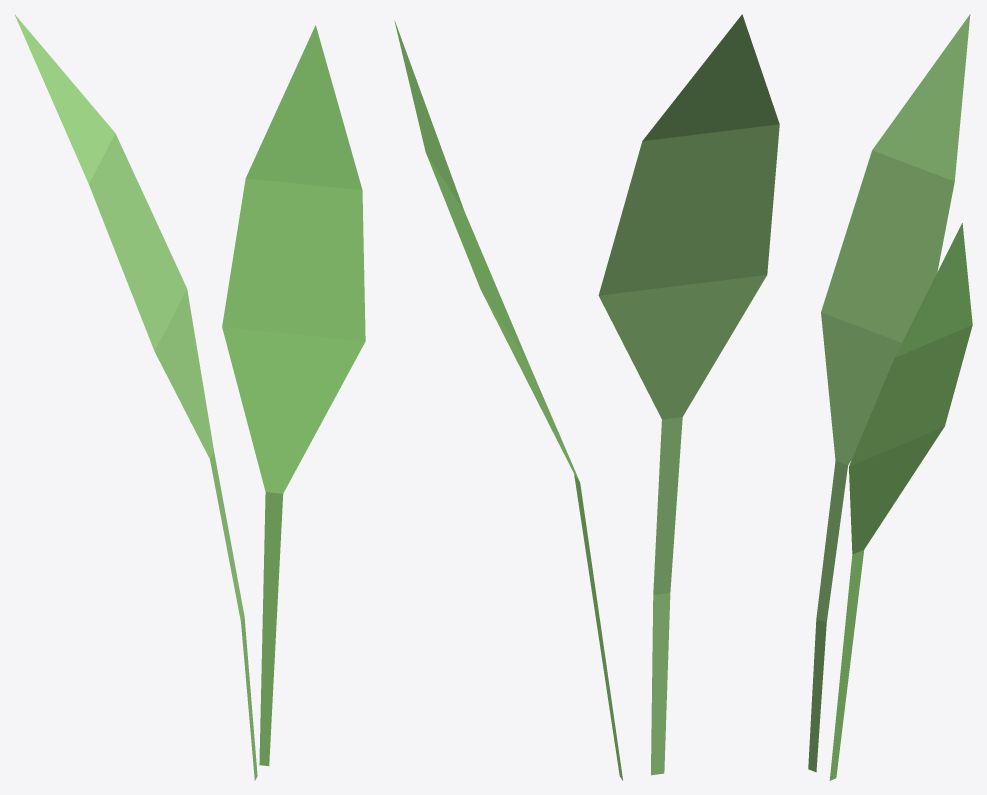
Rendered from Plant_g_TwoS_02.fbx.
3 views of the same model, side by side, from view 1: azimuth 30°, elevation 25°; view 2: azimuth 150°, elevation 25°; view 3: azimuth 270°, elevation 25° (orthographic). The views are drawn at different scales.
Parts seen in each view (by area): view 1: Plant_g_TwoS_02; view 2: Plant_g_TwoS_02; view 3: Plant_g_TwoS_02.
Part boxes in pixels (left/top/right/bottom): Plant_g_TwoS_02: left=14, top=14, right=365, bottom=780; Plant_g_TwoS_02: left=394, top=14, right=779, bottom=780; Plant_g_TwoS_02: left=808, top=14, right=972, bottom=780.
Size of the model in its own units: 26.69 by 61.45 by 13.36.
